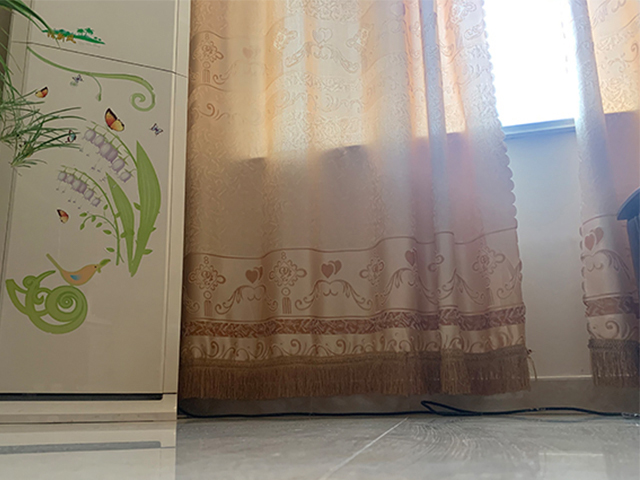curtain: (180, 1, 530, 401), (560, 1, 640, 387)
wire: (179, 400, 639, 420)
